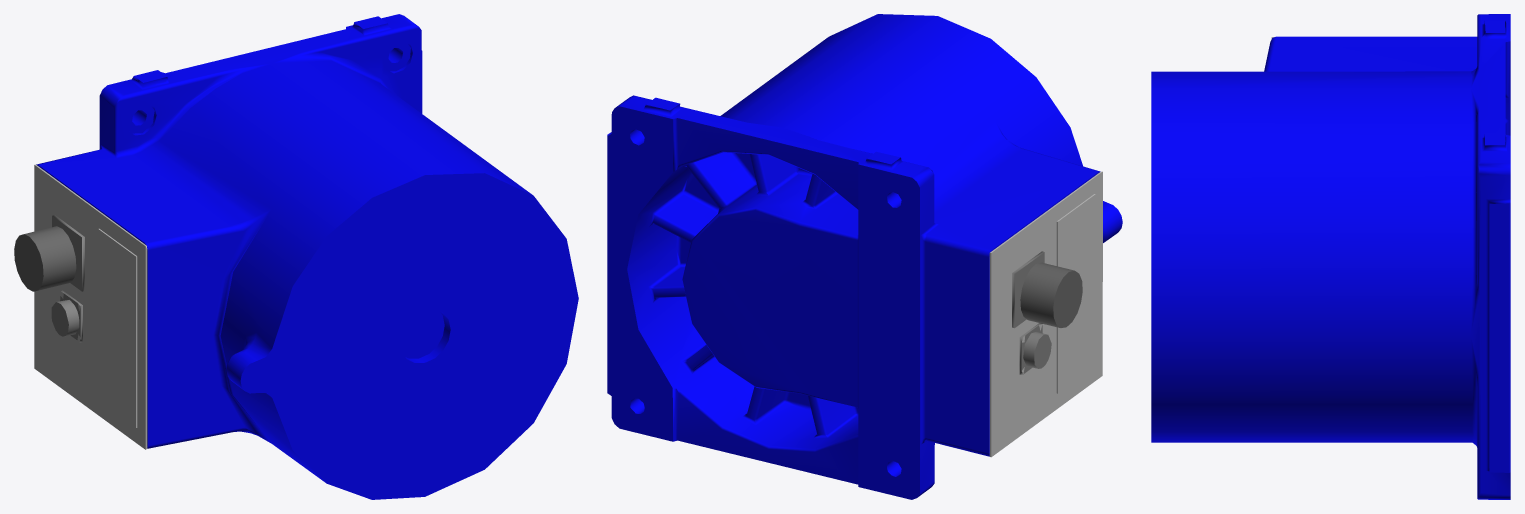
3 views of the same model, side by side, from view 1: azimuth 30°, elevation 25°; view 2: azimuth 150°, elevation 25°; view 3: azimuth 270°, elevation 25° (orthographic). The views are drawn at different scales.
Visible parts, largest first — view 1: base_link.dae (×5); view 2: base_link.dae (×6); view 3: base_link.dae (×2).
Boxes of the visible parts, box(x1,y1,x2,y2) form: base_link.dae (×5): box(14, 14, 578, 499); base_link.dae (×6): box(607, 14, 1122, 499); base_link.dae (×2): box(1151, 14, 1510, 499).
Bounding box in the file's own units: 0.4116 × 0.305 × 0.29.
